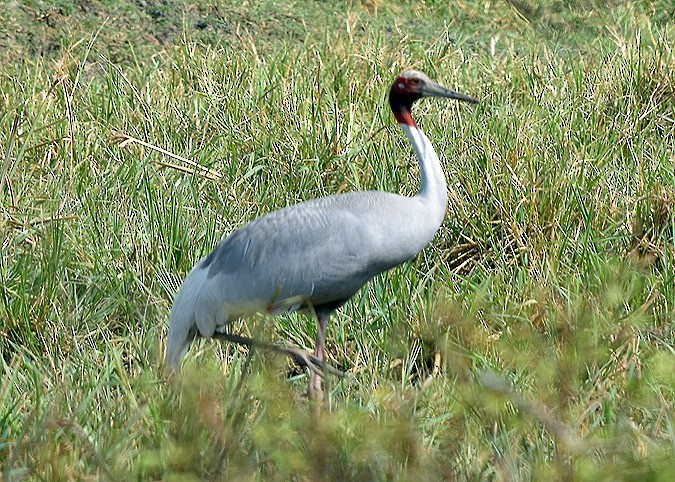crane: (161, 70, 482, 426)
